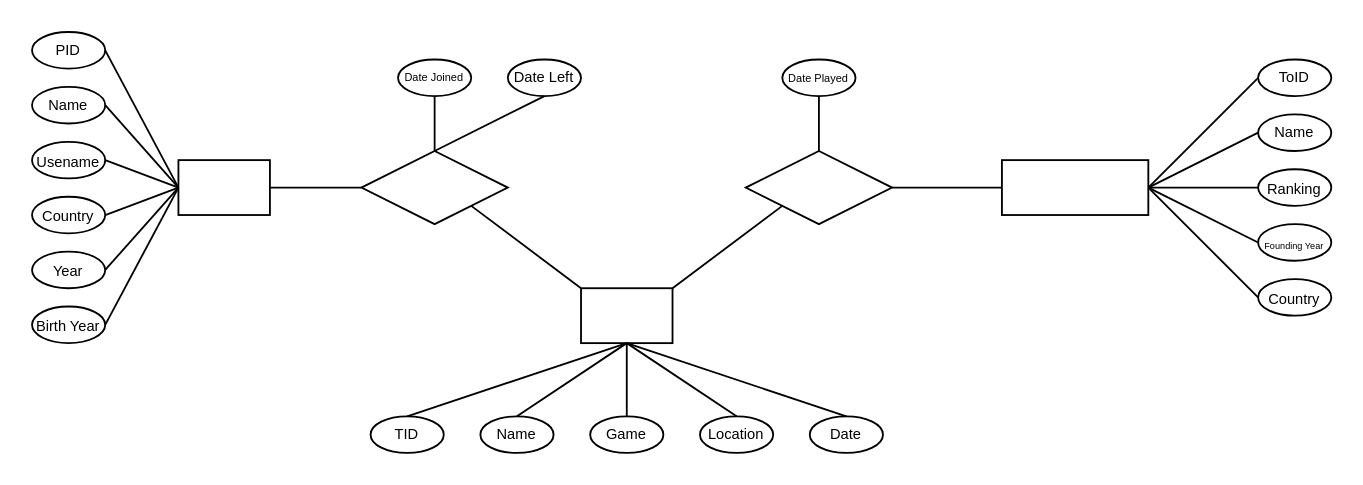
Image size: 1363x485. Some labels were removed from this diagram. The box of each missing label's shape, as (x1, y1, x2, y2) in pixels:
Player: (177, 158, 270, 215)
Playes For: (360, 149, 508, 224)
Playes In: (744, 149, 892, 224)
Team: (579, 286, 673, 343)
Tournament: (1000, 158, 1148, 215)
